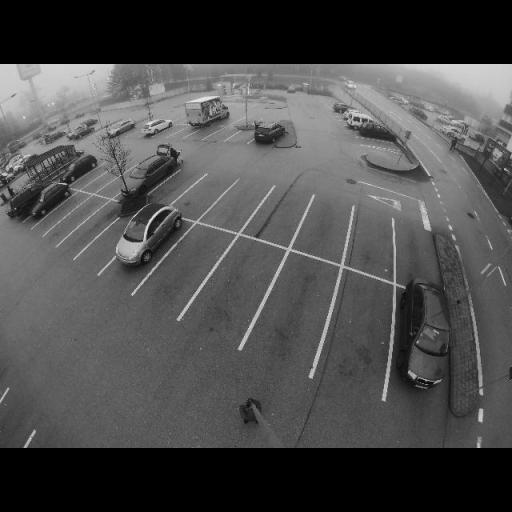busy: (394, 271, 456, 385), (110, 207, 180, 268), (120, 149, 178, 195), (14, 183, 71, 220), (183, 98, 230, 128), (350, 122, 400, 144), (252, 122, 290, 145), (65, 155, 97, 181), (3, 154, 29, 179), (142, 118, 174, 138), (342, 110, 375, 127), (68, 124, 95, 142), (108, 119, 134, 137), (332, 102, 358, 114), (44, 132, 64, 145)
free: (334, 306, 392, 360), (271, 287, 326, 334), (214, 266, 263, 307), (396, 238, 434, 268), (170, 246, 210, 274), (354, 227, 392, 255), (304, 216, 344, 242), (264, 206, 300, 231), (220, 195, 256, 218), (360, 134, 396, 151), (98, 230, 120, 255), (188, 188, 216, 206), (80, 217, 106, 236), (67, 210, 90, 228), (163, 182, 186, 196), (79, 170, 97, 186), (95, 174, 115, 188), (54, 204, 70, 217), (216, 130, 232, 139), (236, 134, 252, 143), (195, 132, 208, 143), (173, 129, 187, 138)
